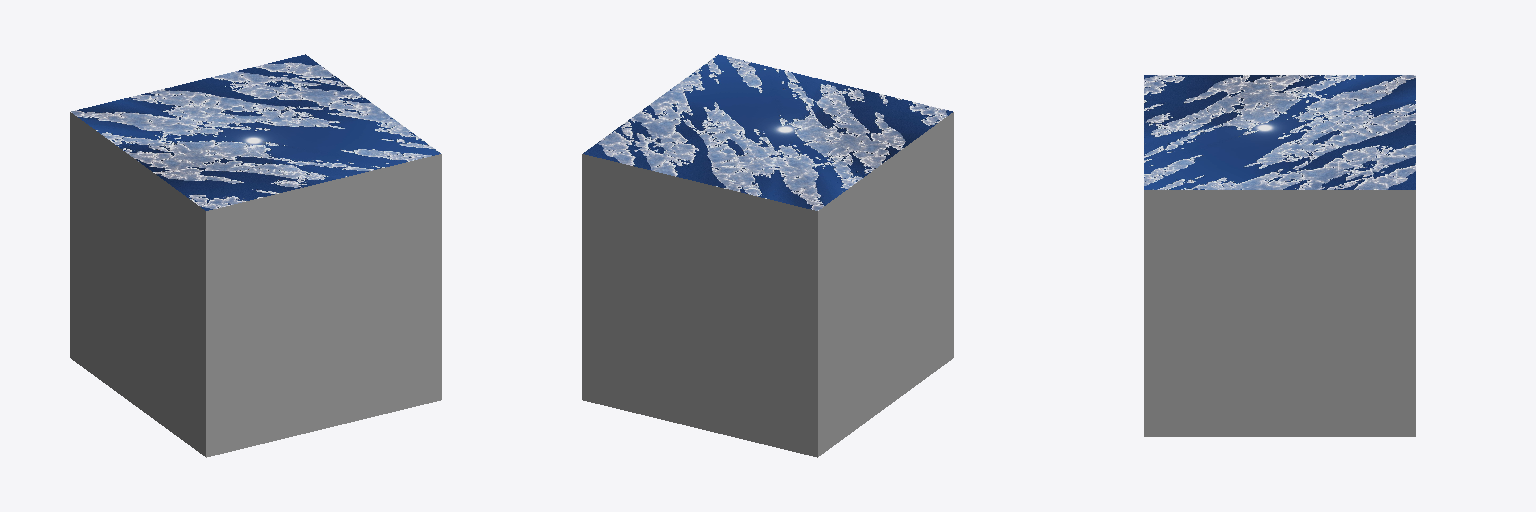
3 renders of one model, left to right at view 1: azimuth 30°, elevation 25°; view 2: azimuth 150°, elevation 25°; view 3: azimuth 270°, elevation 25°, orthographic.
Visible parts, largest first — view 1: skybox_foresthills_bottom; view 2: skybox_foresthills_bottom; view 3: skybox_foresthills_bottom.
Part boxes in pixels (left/top/right/bottom): skybox_foresthills_bottom: left=70, top=54, right=441, bottom=457; skybox_foresthills_bottom: left=582, top=54, right=953, bottom=457; skybox_foresthills_bottom: left=1144, top=75, right=1415, bottom=436.
Size of the model in its own units: 18.01 by 18.01 by 18.01.
6 materials, 2 textured.